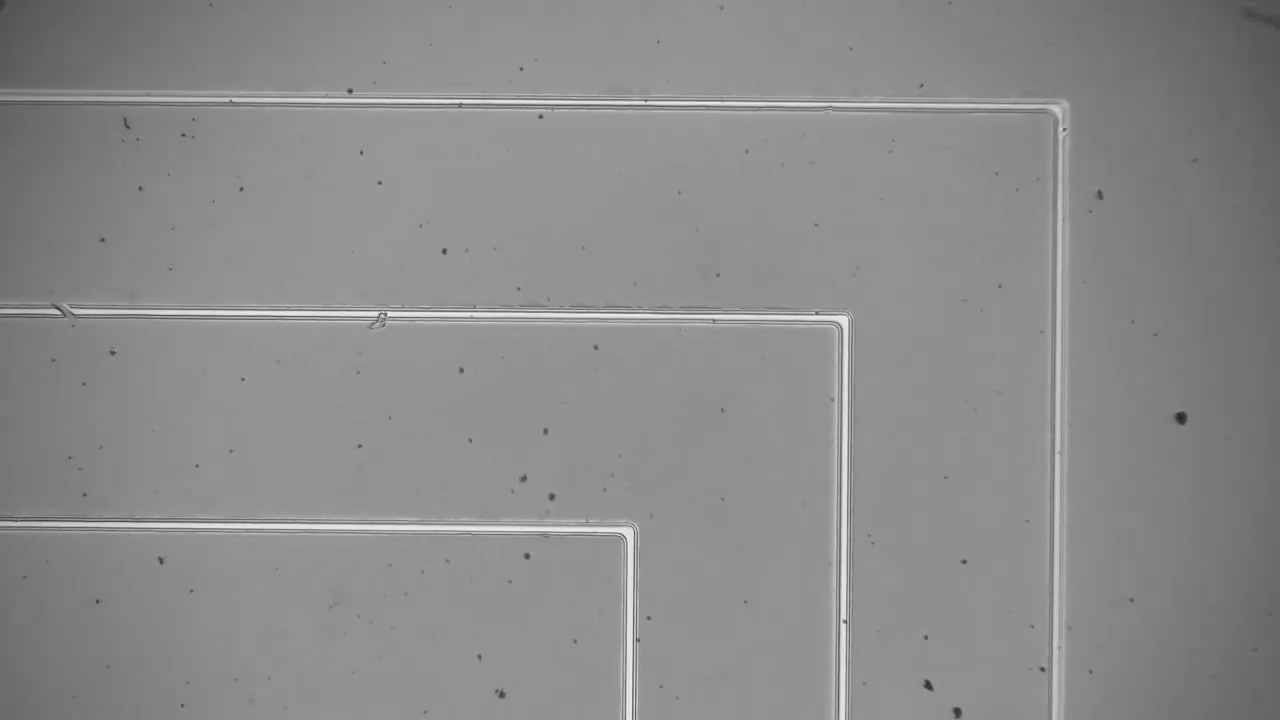open: (39, 286, 87, 340)
stains_enbedded: (355, 295, 402, 340)
